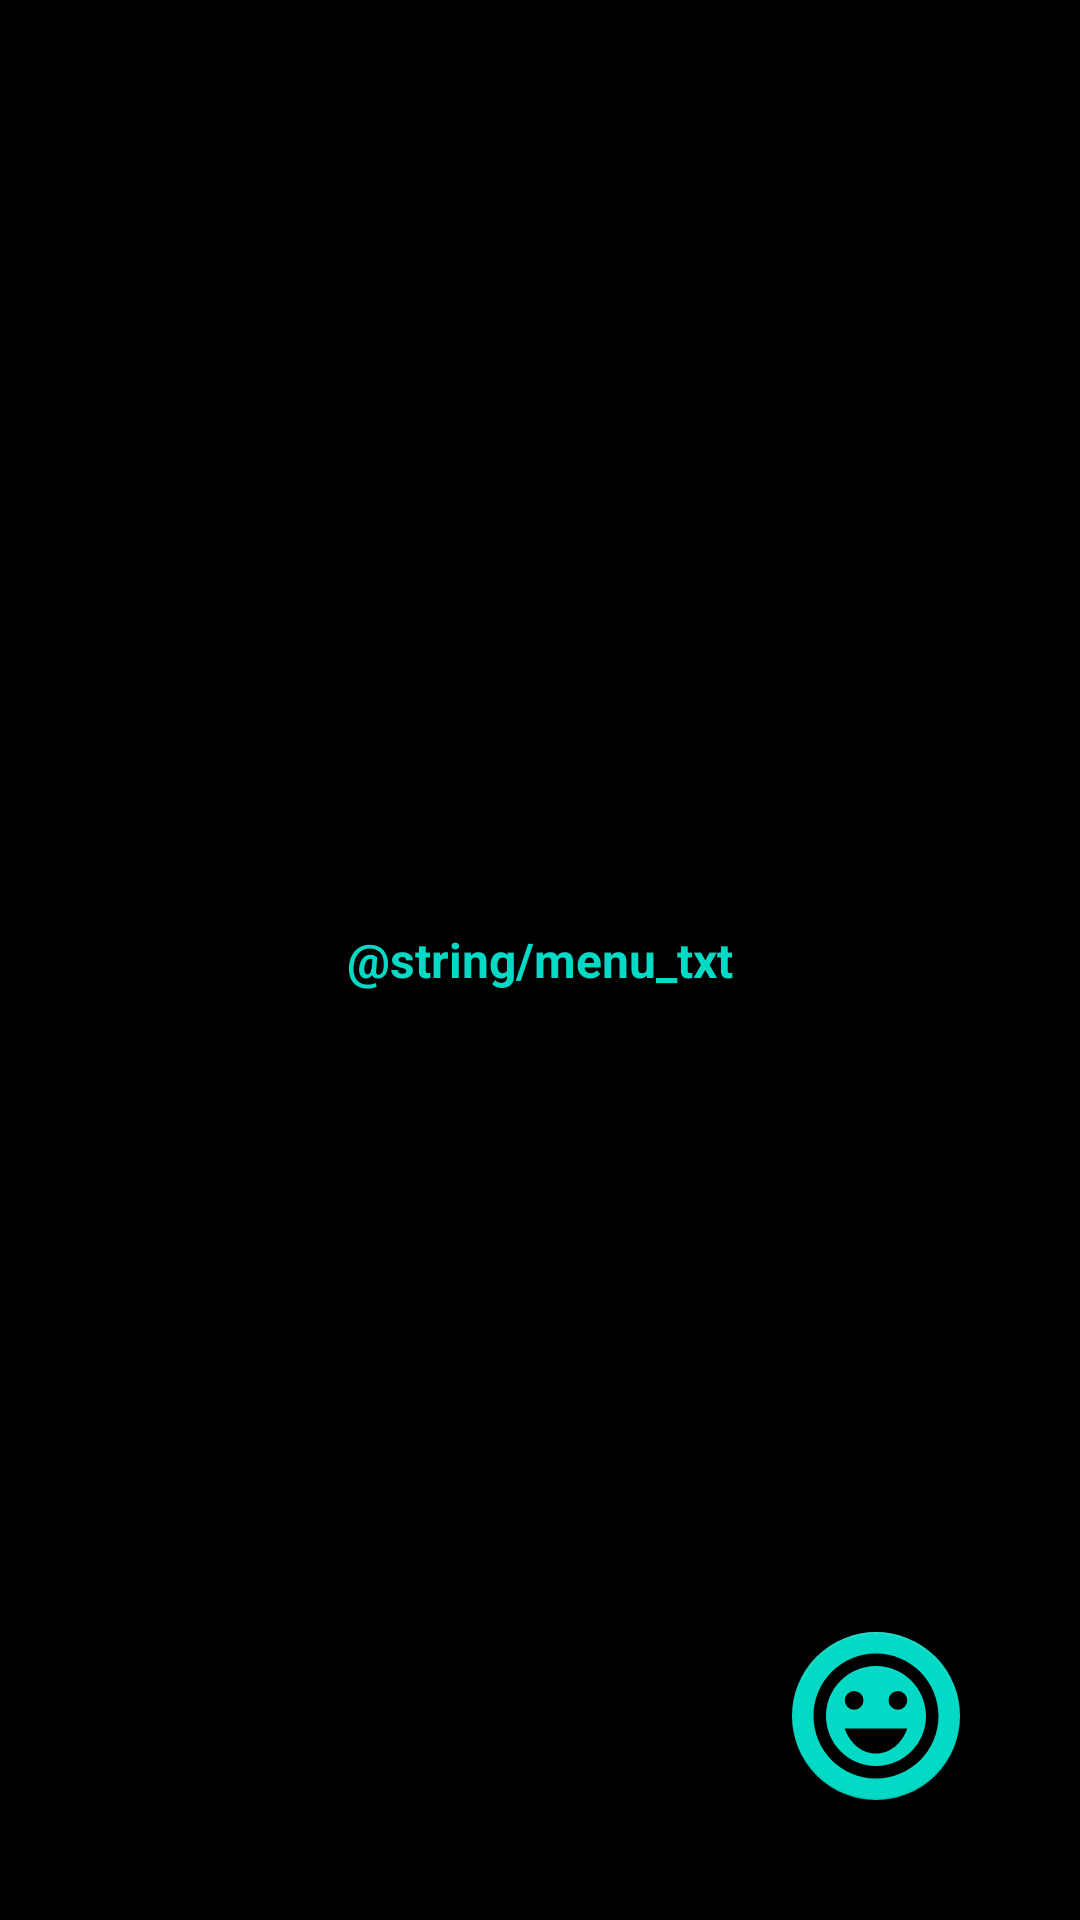

Screen size 1080px x 1920px. Icon name, then its center in pixels as (x,y):
sentiment: (876,1716)
